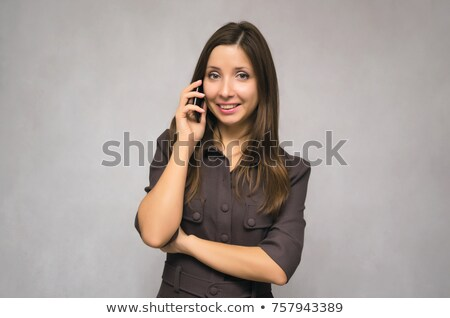phone: (181, 75, 209, 128)
talk: (171, 62, 261, 133)
